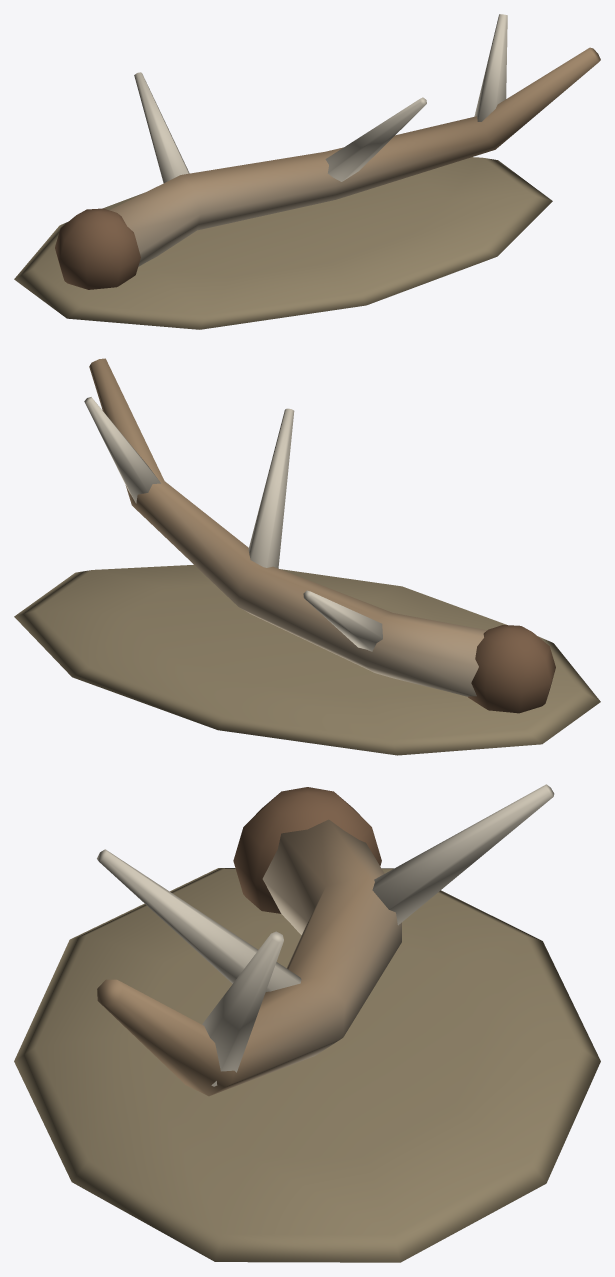
File: col_shed_antler.glb
3 renders of one model, top to bottom at view 1: azimuth 30°, elevation 25°; view 2: azimuth 150°, elevation 25°; view 3: azimuth 270°, elevation 25°, orthographic. The views are drawn at different scales.
Parts seen in each view (by area): view 1: col_shed_antler; view 2: col_shed_antler; view 3: col_shed_antler.
Part boxes in pixels (bbox=[...]): col_shed_antler: bbox=[14, 14, 600, 329]; col_shed_antler: bbox=[14, 358, 600, 755]; col_shed_antler: bbox=[14, 784, 600, 1262].
Size of what is drawn, in the model's own units: 0.6227 by 0.2255 by 0.3792.
